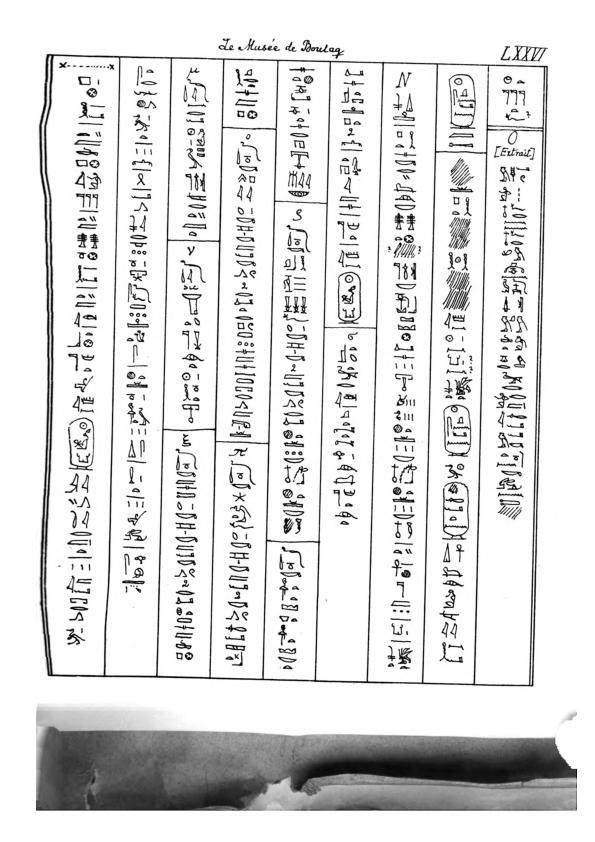circle: (439, 480, 472, 543), (441, 402, 476, 460), (64, 415, 96, 473), (447, 72, 478, 130), (336, 271, 363, 327)
